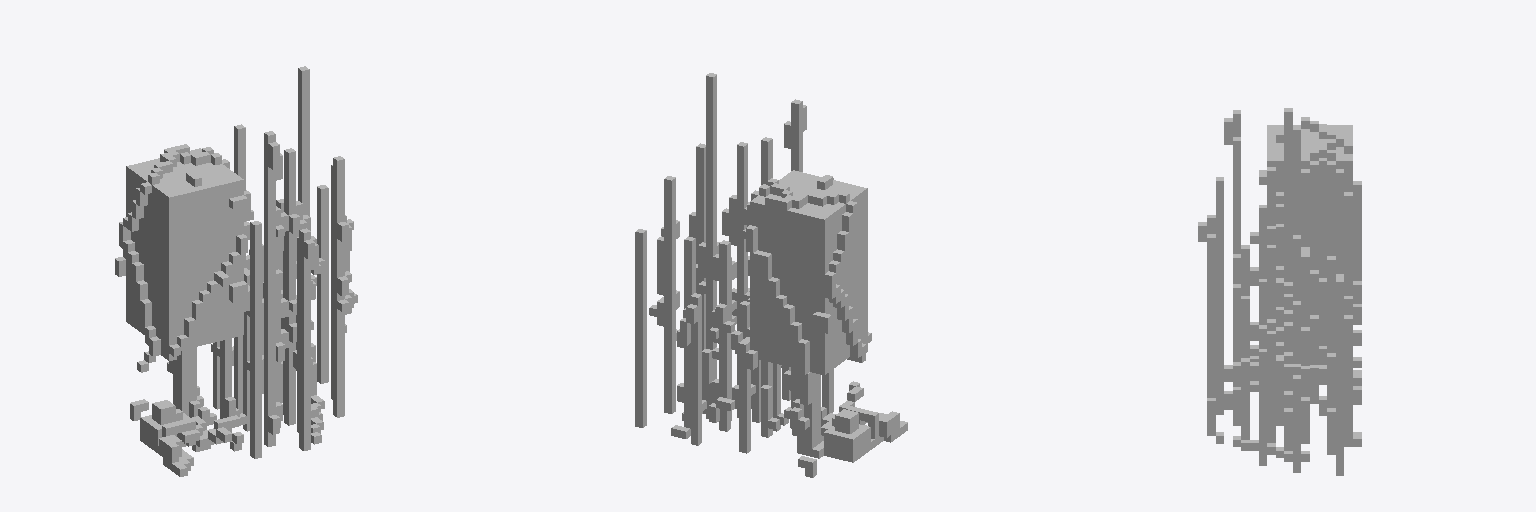
Rendered from Tiles 2 morceau 5.obj.
3 renders of one model, left to right at view 1: azimuth 30°, elevation 25°; view 2: azimuth 150°, elevation 25°; view 3: azimuth 270°, elevation 25°, orthographic.
Visible parts, largest first — view 1: Tiles 2 morceau 5; view 2: Tiles 2 morceau 5; view 3: Tiles 2 morceau 5.
Boxes of the visible parts, x1=… form: Tiles 2 morceau 5: x1=115, y1=66, x2=357, y2=476; Tiles 2 morceau 5: x1=635, y1=73, x2=907, y2=477; Tiles 2 morceau 5: x1=1198, y1=108, x2=1361, y2=475.
Bounding box in the file's own units: 29 × 44 × 19.